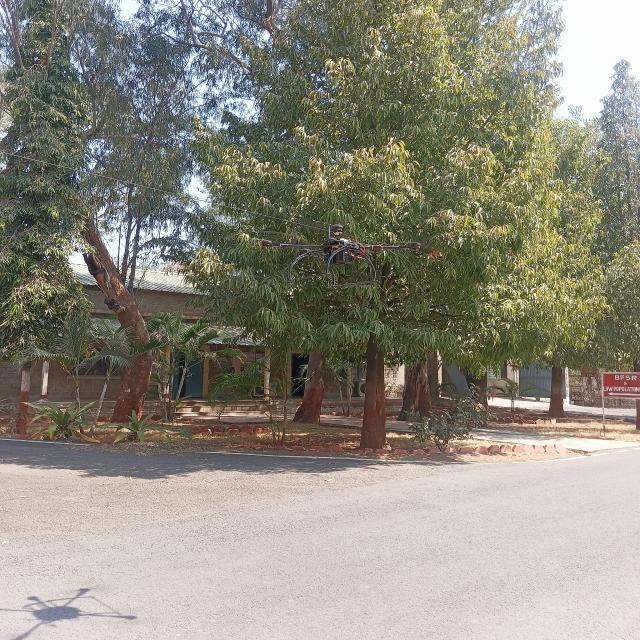drone: (251, 210, 454, 296)
